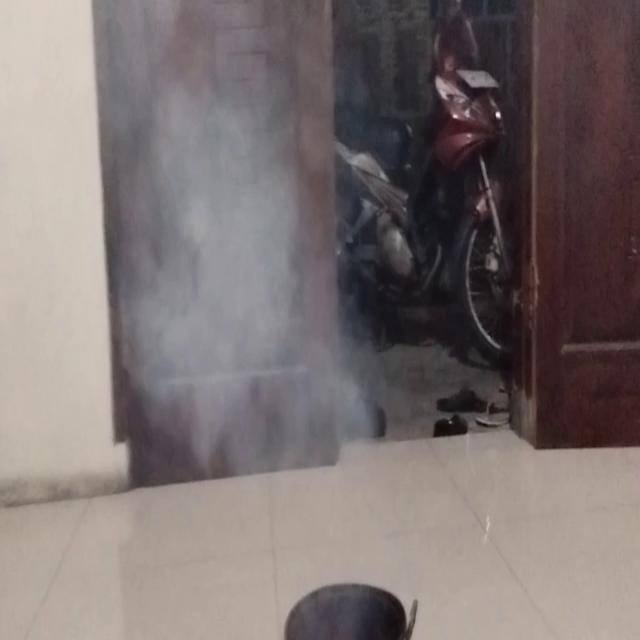smoke: (47, 4, 369, 315), (82, 321, 442, 569)
